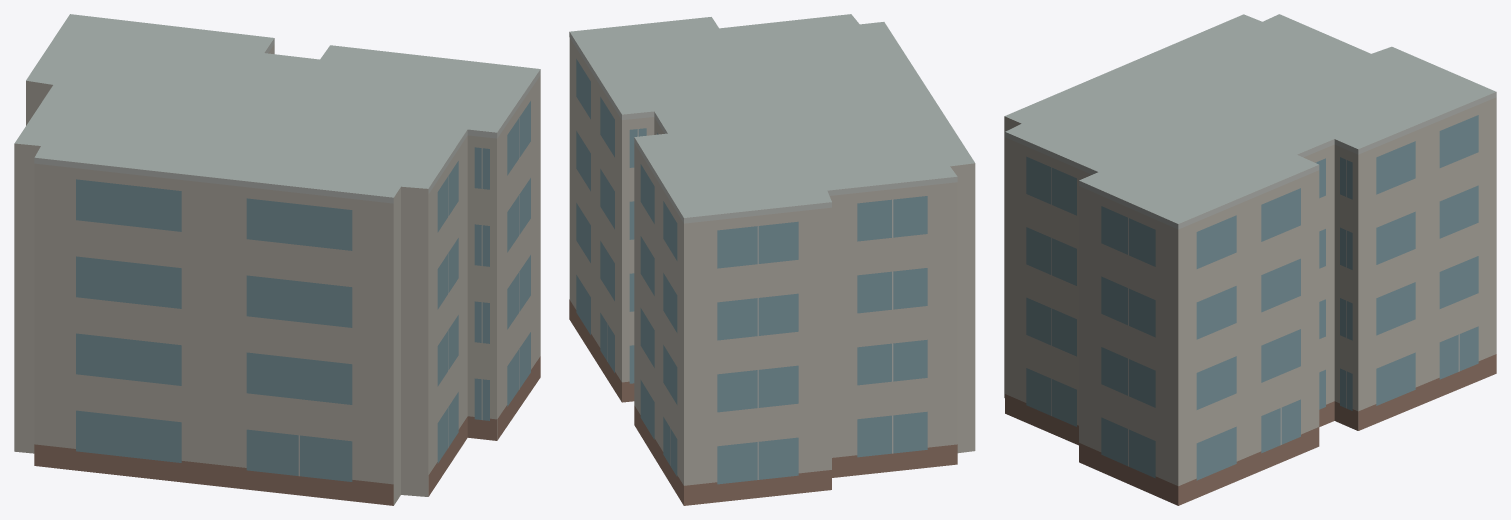
The model's file is survey-upis-32834898.glb.
The picture shows the model from 3 angles, left to right: view 1: azimuth 30°, elevation 25°; view 2: azimuth 150°, elevation 25°; view 3: azimuth 270°, elevation 25°; orthographic projection. The views are drawn at different scales.
Parts seen in each view (by area): view 1: survey-upis-32834898.tmp; view 2: survey-upis-32834898.tmp; view 3: survey-upis-32834898.tmp.
Part boxes in pixels (bbox=[...]): survey-upis-32834898.tmp: bbox=[14, 14, 540, 505]; survey-upis-32834898.tmp: bbox=[569, 14, 975, 505]; survey-upis-32834898.tmp: bbox=[1004, 14, 1496, 505].
Size of the model in its own units: 20.32 by 12.7 by 20.11.
